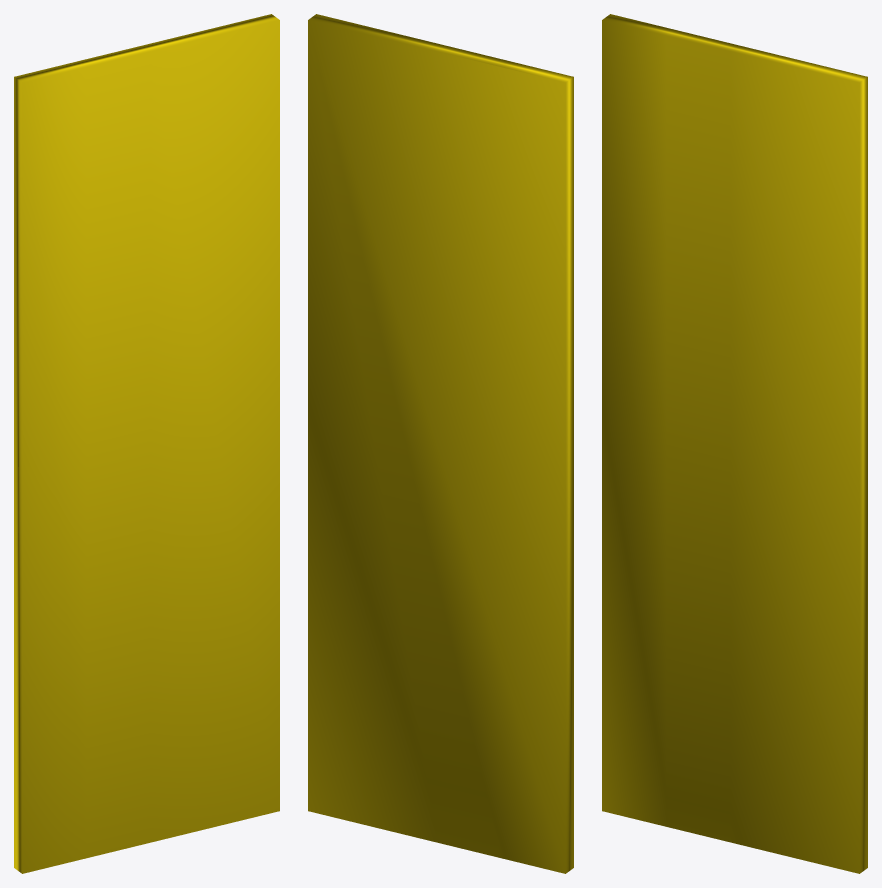
File: cabinet_left_door_hotfix.fbx
3 renders of one model, left to right at view 1: azimuth 30°, elevation 25°; view 2: azimuth 150°, elevation 25°; view 3: azimuth 330°, elevation 25°, orthographic.
Parts seen in each view (by area): view 1: Left Door; view 2: Left Door; view 3: Left Door.
Part boxes in pixels (left/top/right/bottom): Left Door: left=14, top=14, right=279, bottom=873; Left Door: left=308, top=14, right=573, bottom=873; Left Door: left=602, top=14, right=867, bottom=873.
Size of the model in its own units: 101 by 296 by 5.58.
